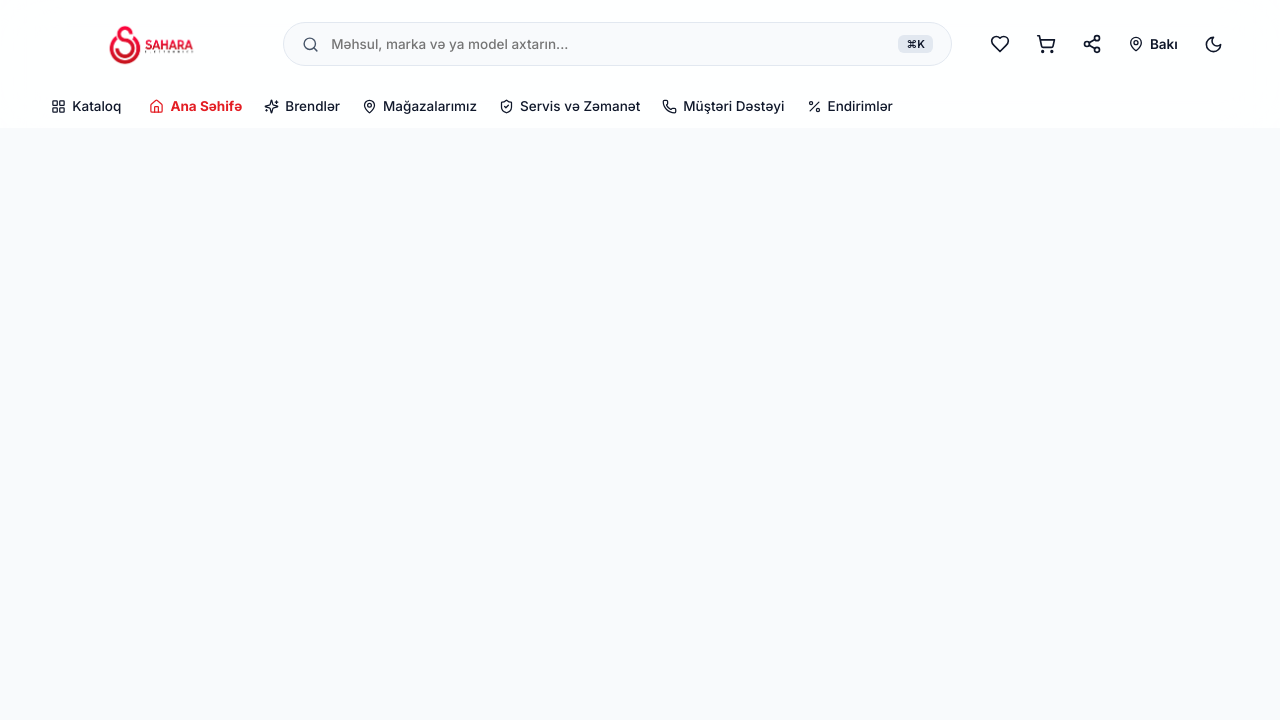
Storefront Refinements (Items 5, 6, 7, 8, 9) › Item 11: Axtarış aktiv olduqda loqo böyüyür və altında kəşf şüarı göstərilir
Click the element with test id "header-search-trigger" at (618, 44), box [283,22,952,66]
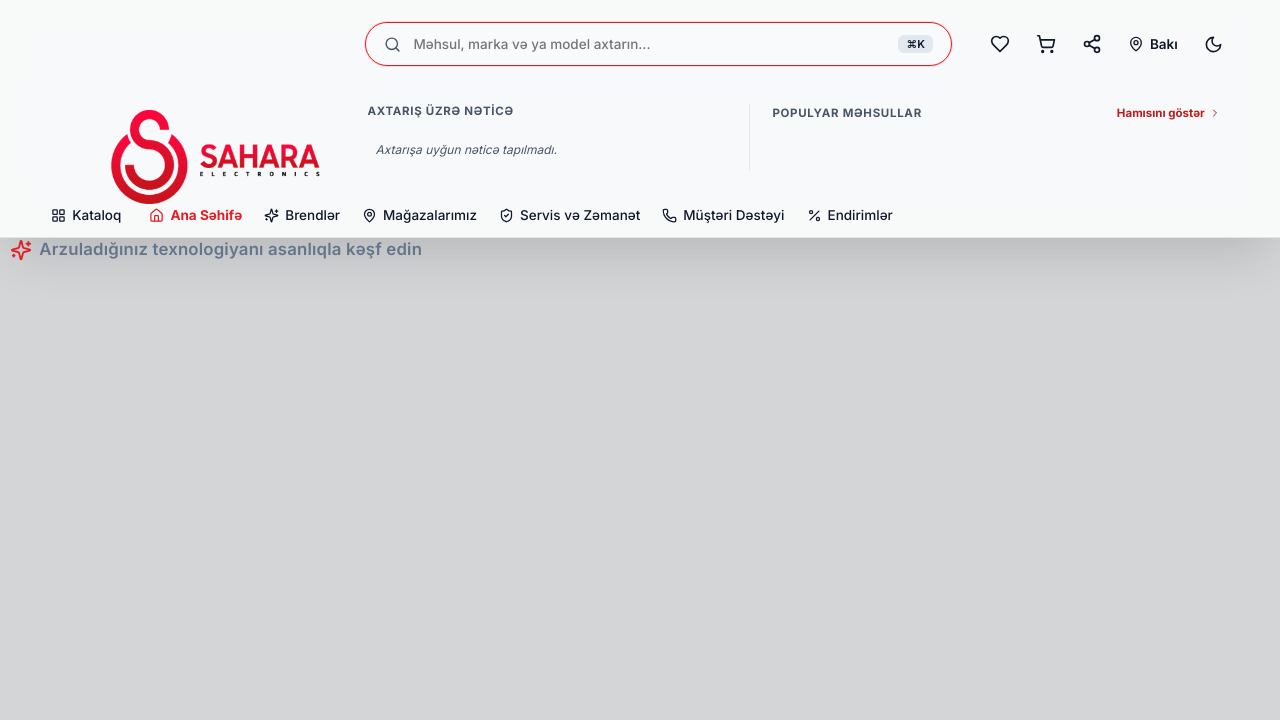
Expected: the text "Arzuladığınız texnologiyanı asanlıqla kəşf edin" is shown, [40,239,422,260]
